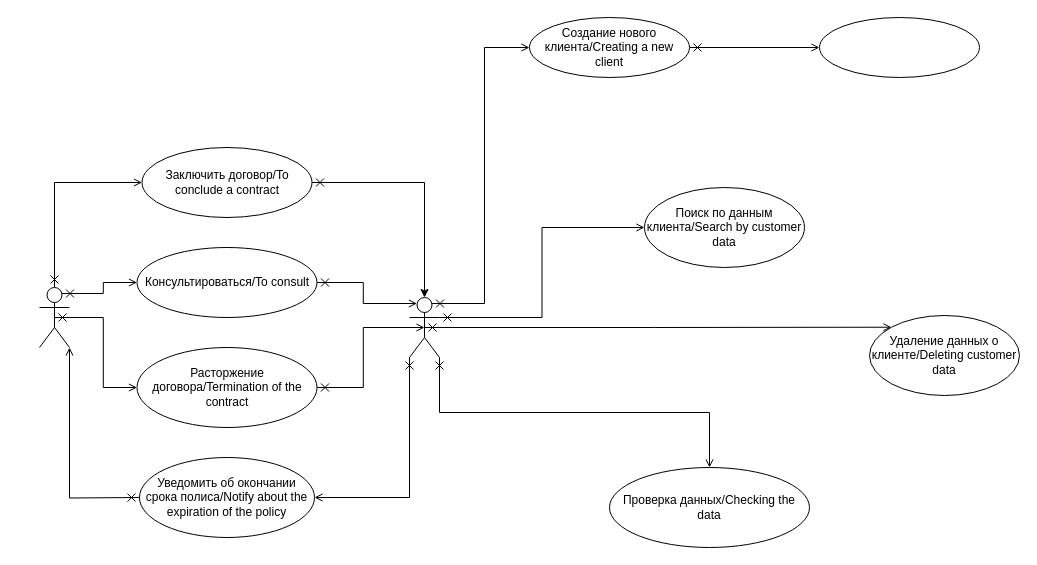
Some shapes in this 1037 by 565 pixel diagram are drawn without their labels. Each missing label, with the centre of its shape:
"Клиент/Client" belongs at (x=54, y=317).
"Редактирование данных/Editing data" belongs at (x=899, y=47).
"Страховой агент/Insurance Agent" belongs at (x=424, y=327).
